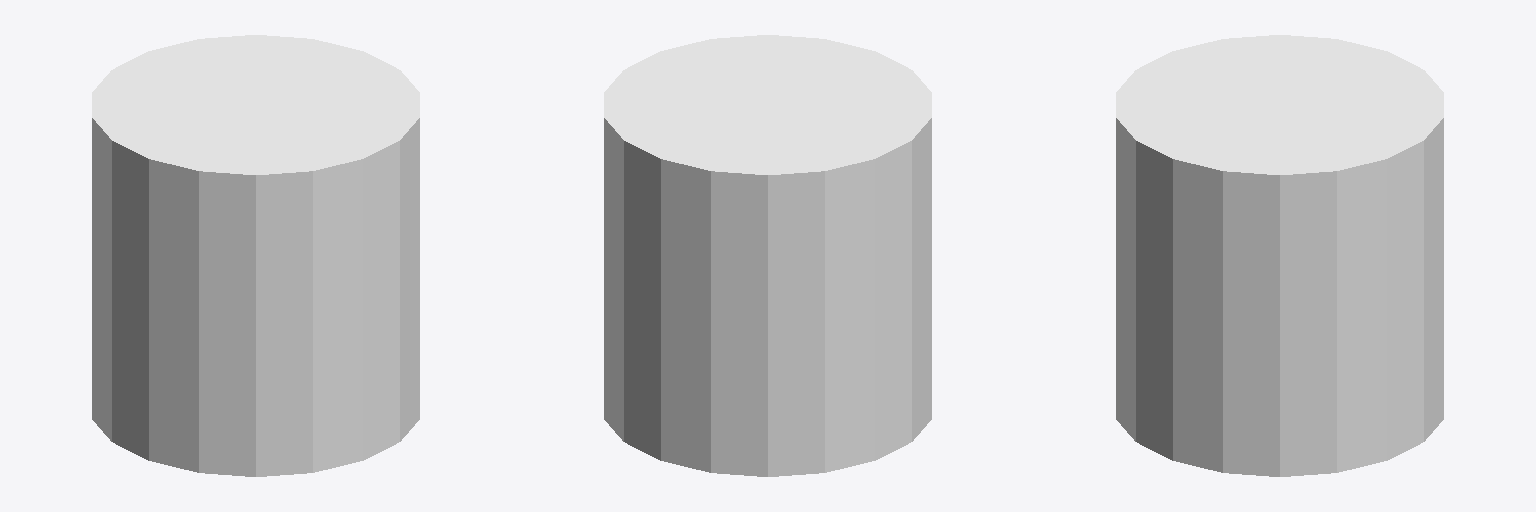
File: Slinder.obj
The picture shows the model from 3 angles: view 1: azimuth 30°, elevation 25°; view 2: azimuth 150°, elevation 25°; view 3: azimuth 270°, elevation 25°; orthographic projection.
Visible parts, largest first — view 1: Cylinder001; view 2: Cylinder001; view 3: Cylinder001.
Part boxes in pixels (x1,y1,x2,y2): Cylinder001: (92,35,419,476); Cylinder001: (604,35,931,476); Cylinder001: (1116,35,1443,476).
Bounding box in the file's own units: 1 × 1 × 0.9848.